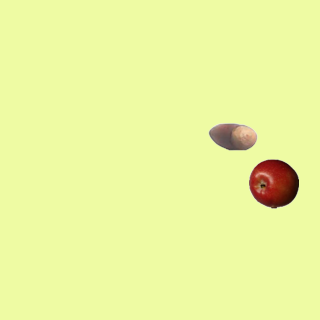Apple Braeburn: (248, 158, 298, 208)
Hazelnut: (207, 111, 257, 161)
